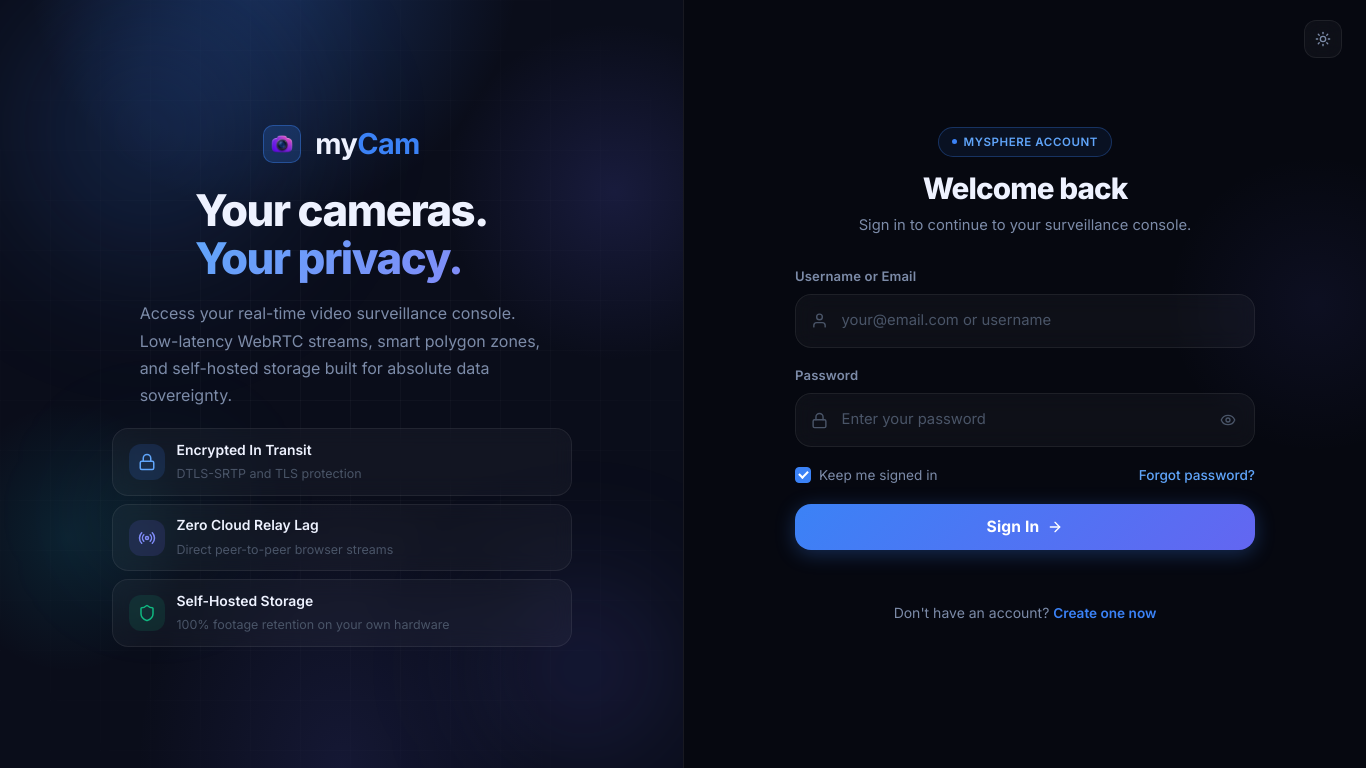
Scenario: Login › shows the server message for rejected credentials and stores nothing
The image size is (1366, 768).
In the field with id "login-username": (1025, 321) [795,294,1255,348], type "rudy"
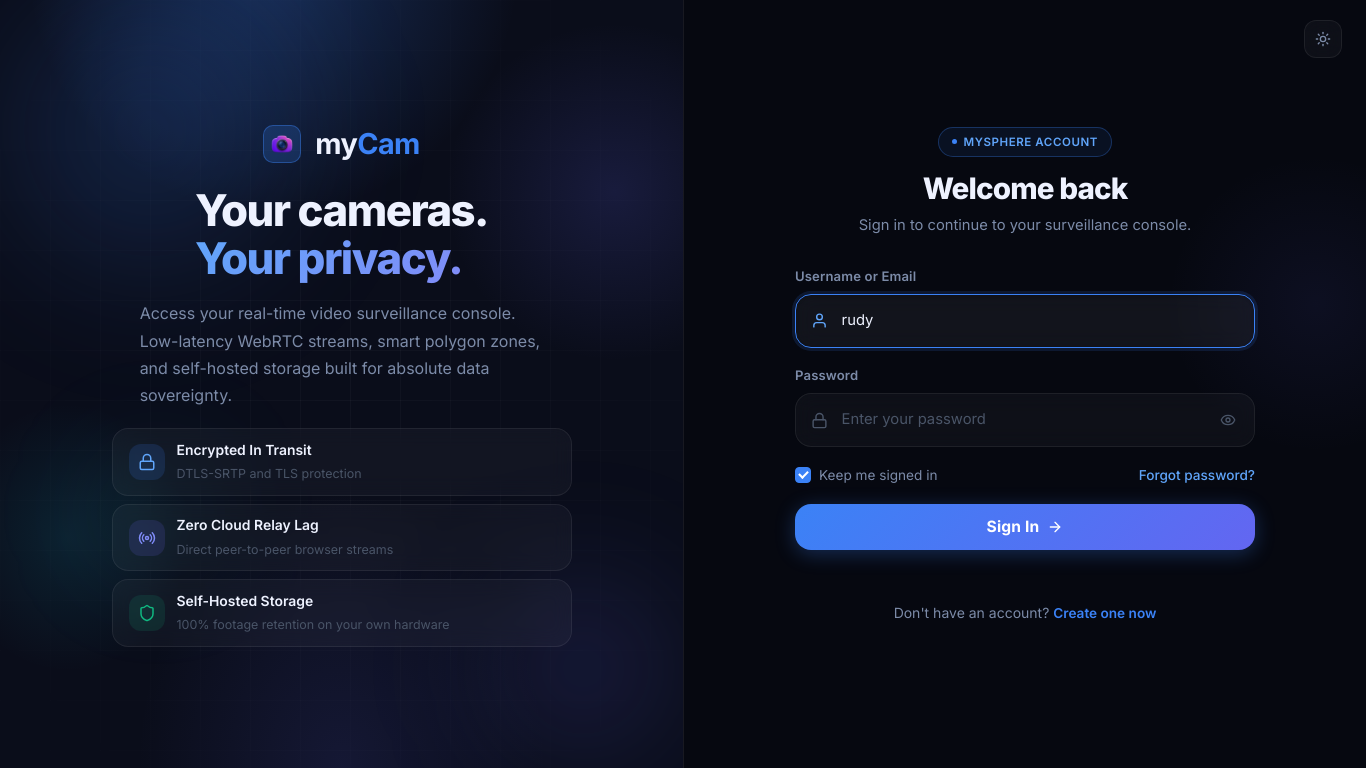
In the password field with id "login-password": (1025, 420) [795,393,1255,447], type "Secret#123"
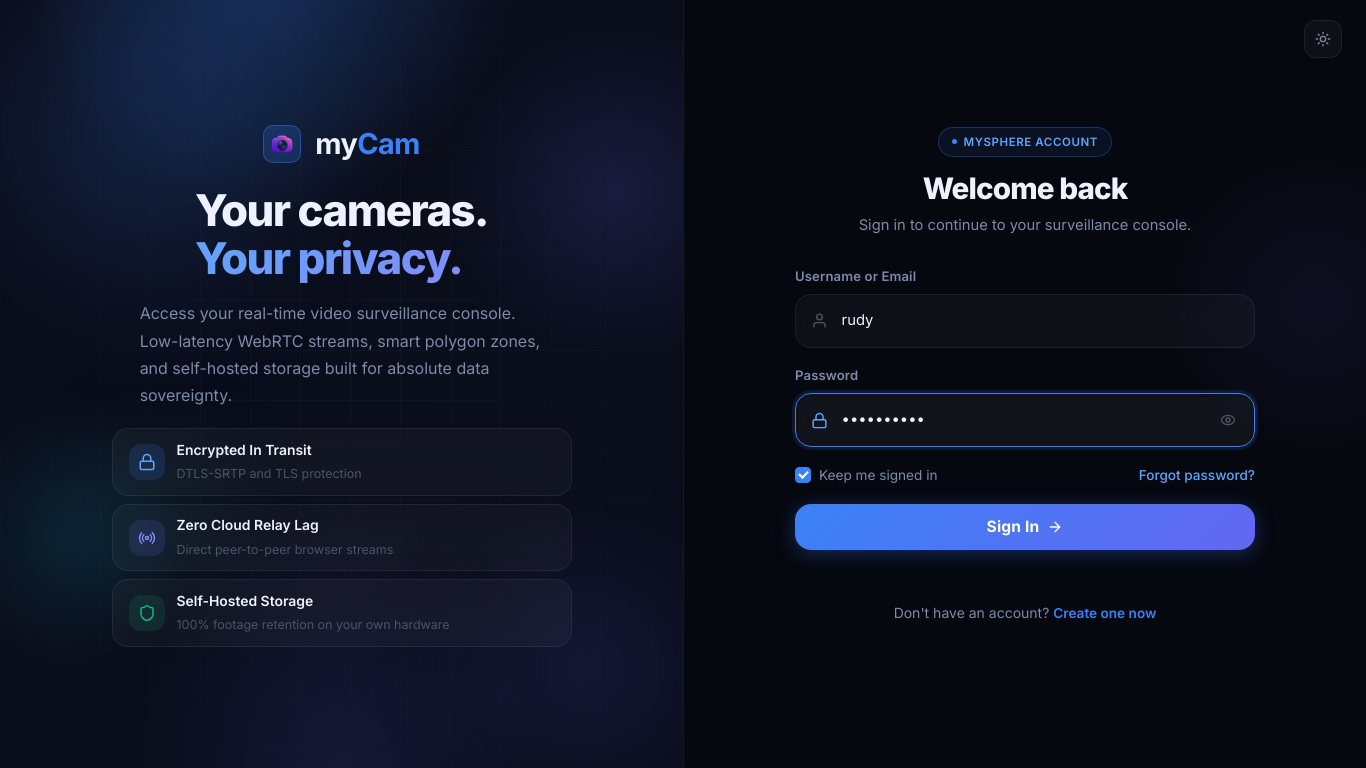
Click the button with aria-label "sign in to mycam": (1025, 527) [795,504,1255,550]
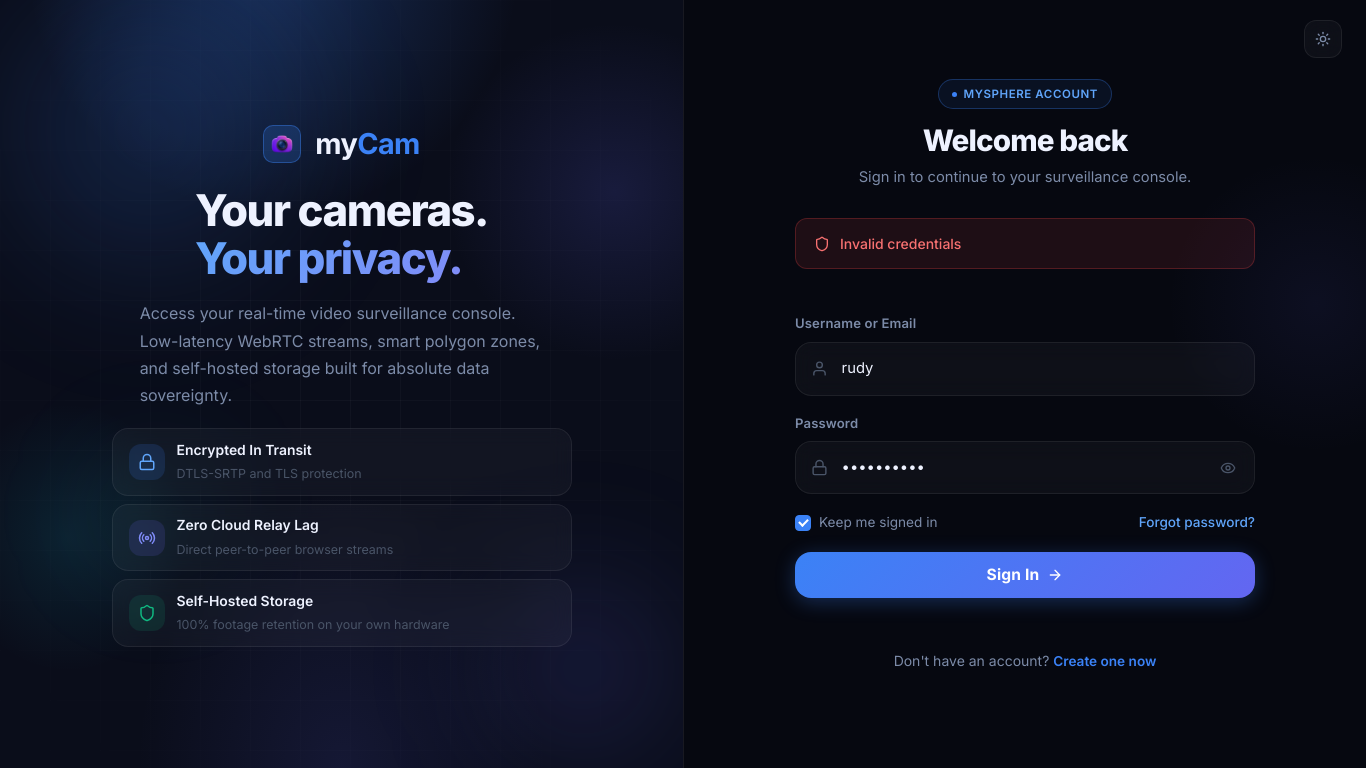
Expected: the text "Invalid credentials" is shown, [840,232,961,255]
